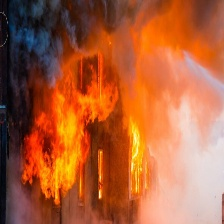fire: (18, 68, 114, 202), (128, 115, 146, 200)
smoke: (40, 1, 222, 57), (149, 111, 220, 223)
